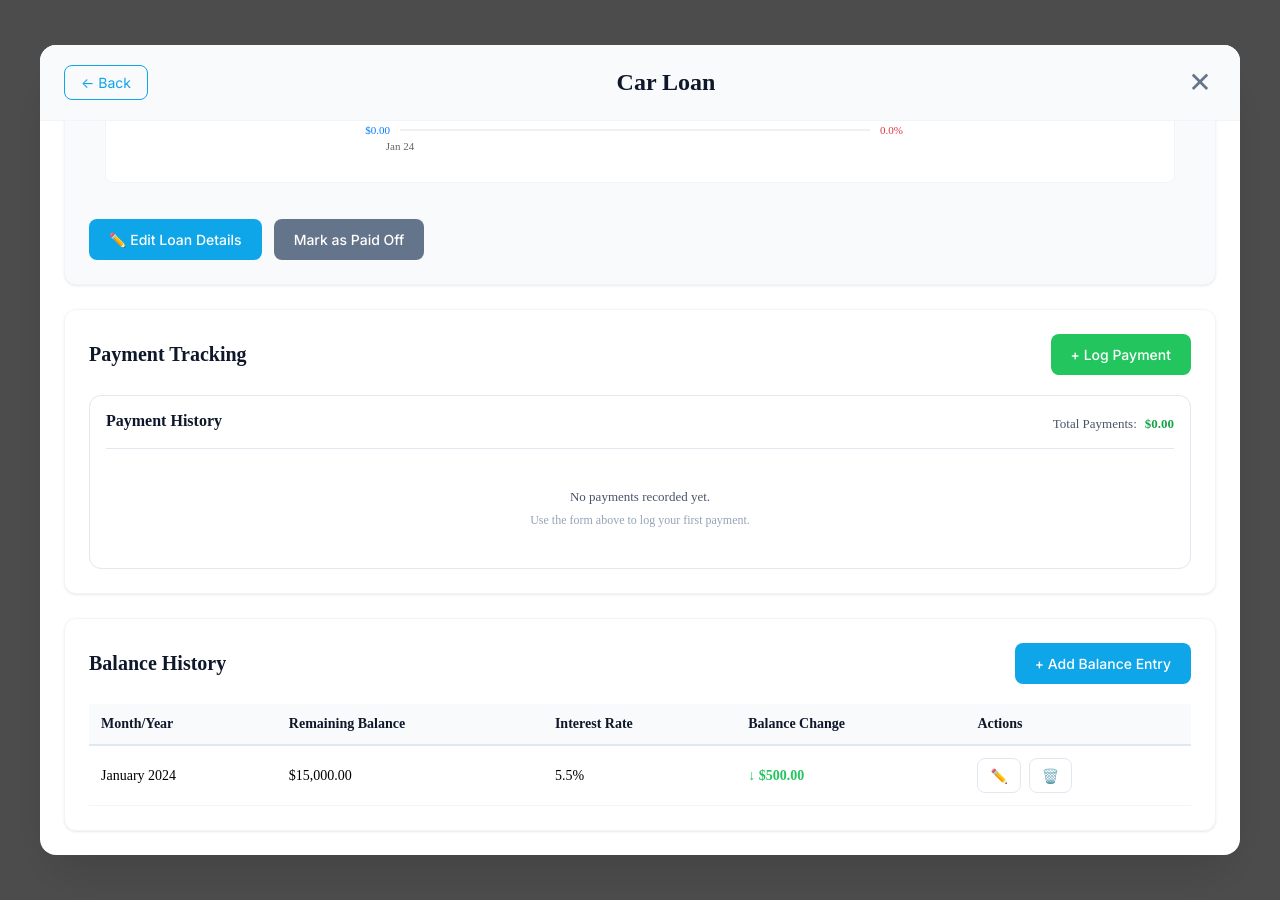
LoanDetailView Balance Entry Form - Fixed Interest Rate › Conditional Rendering of Rate Input › hides rate input when loan has fixed_interest_rate
(page scrolled)
Expected: the heading "Balance History" is shown, 89,652 -> 226,675
Note: Click Add Balance Entry button
Step 1. Click the button "+ Add Balance Entry" → (1103, 664), box 1015,643 -> 1191,684
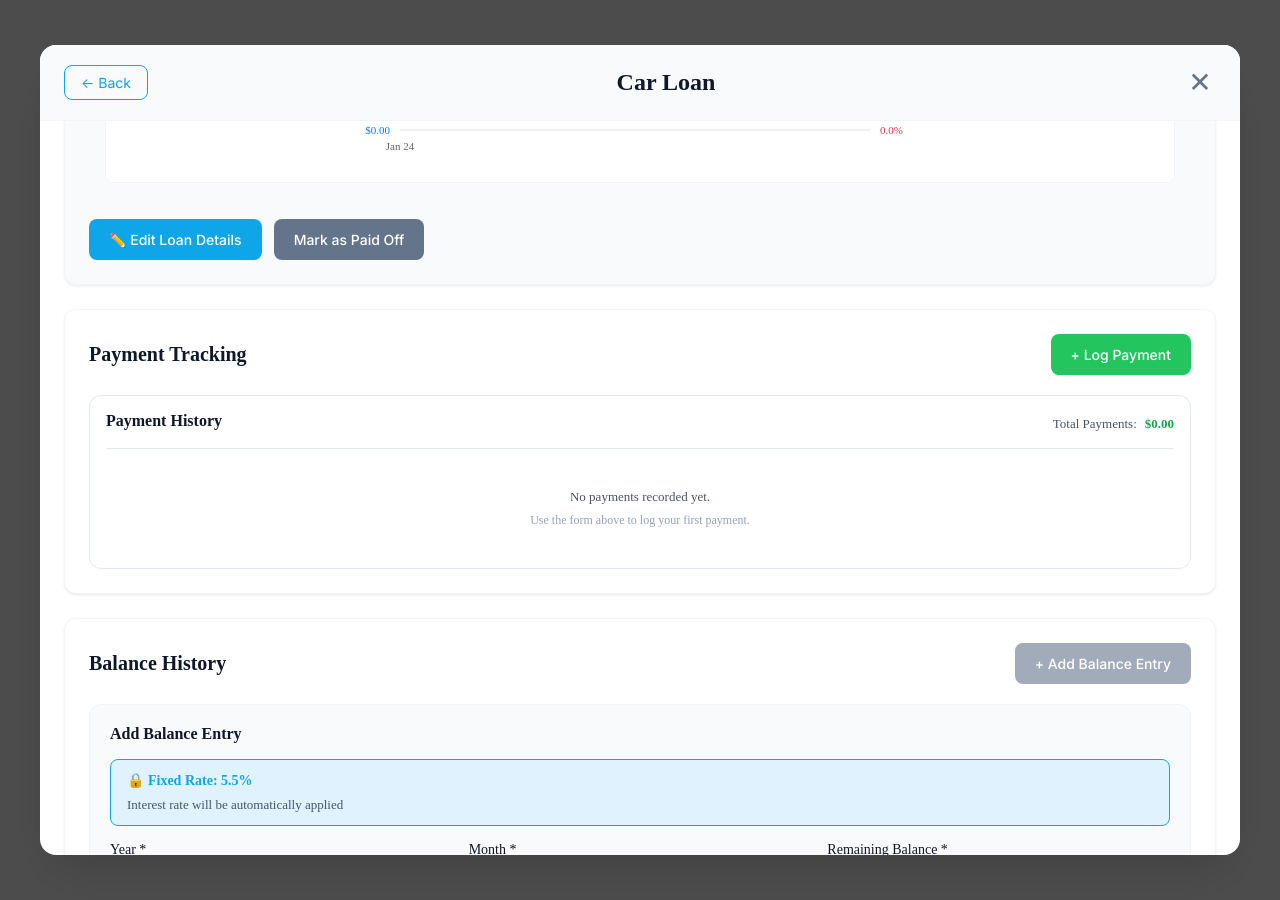
Expected: the text "Remaining Balance *" is shown, 827,842 -> 948,855
